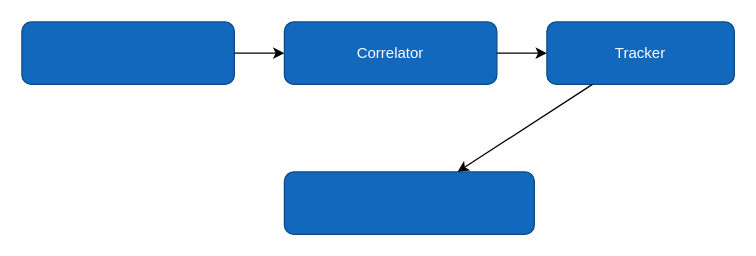
Image size: 756x256. Some labels were removed from this diagram. Each missing label, with the centre of its shape:
"Geo/temporal indexer" belongs at [408,202].
"Normaliser" belongs at [127,52].
